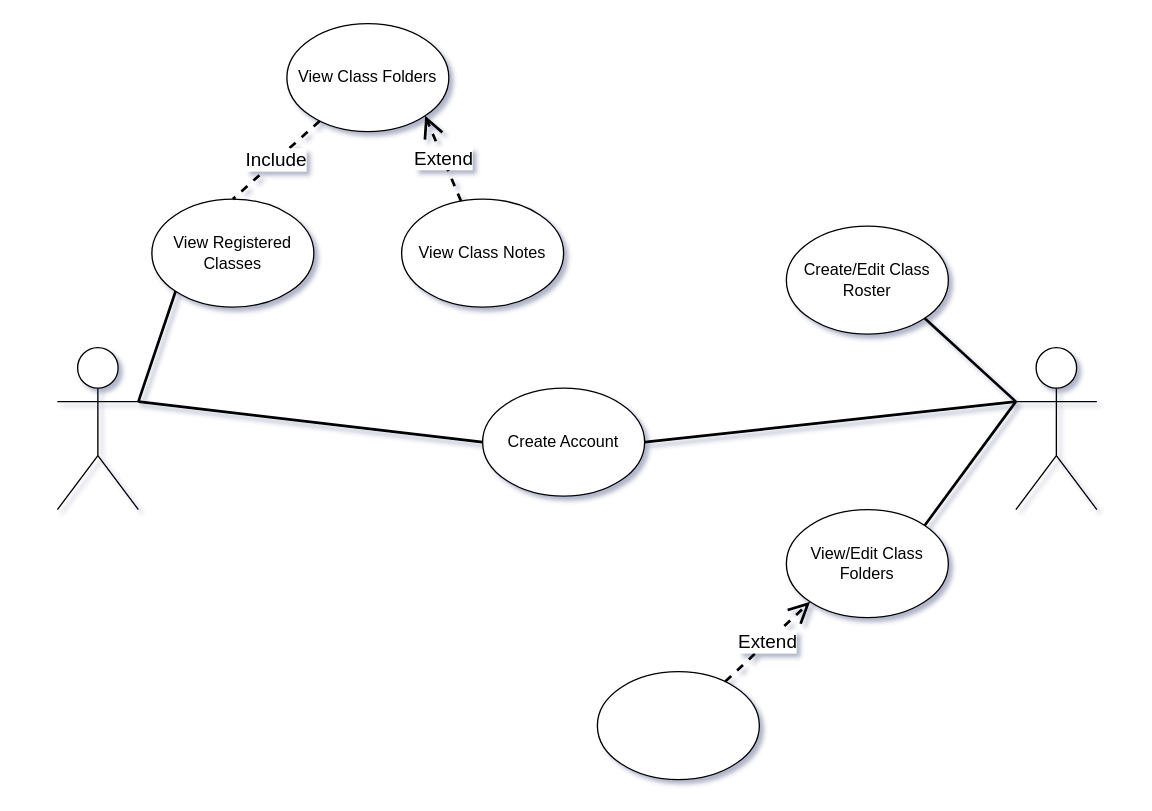
Image size: 1152x811. Some labels were removed from this diagram. Here are the shapes that lost their labels. From the top down, the centre of each, then its label:
At point (97, 428): "Student / Non-Admin".
At point (1056, 428): "Professor / Admin".
At point (677, 725): "View/Edit Class Notes".
